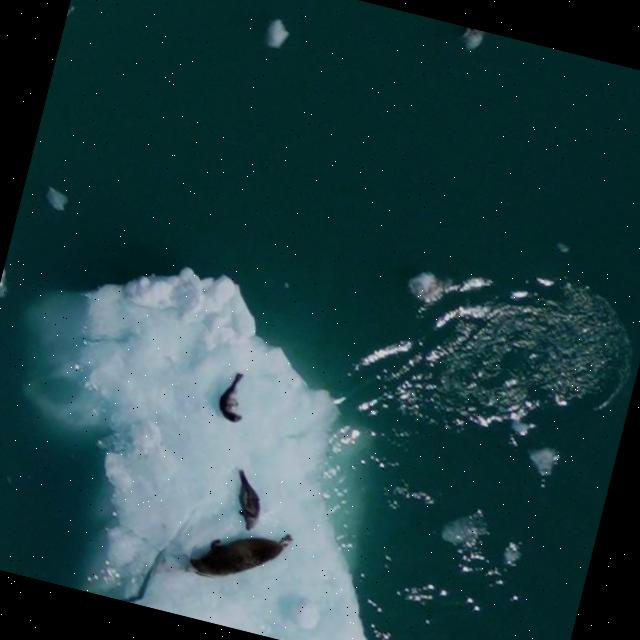seal: (186, 530, 297, 580), (234, 464, 263, 533), (216, 369, 244, 423)
